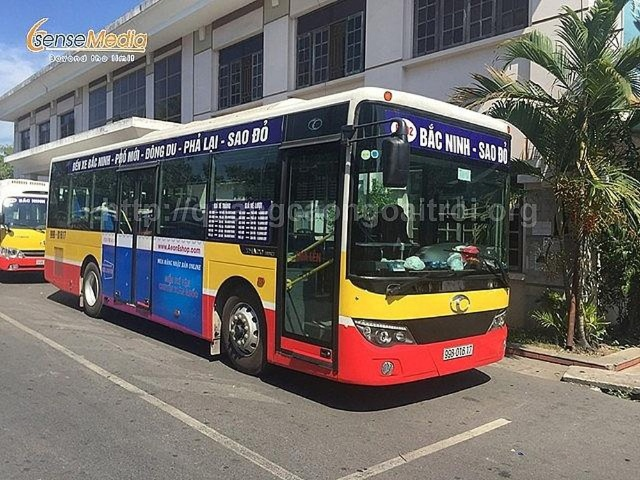Xe_buyt: (42, 87, 517, 386)
